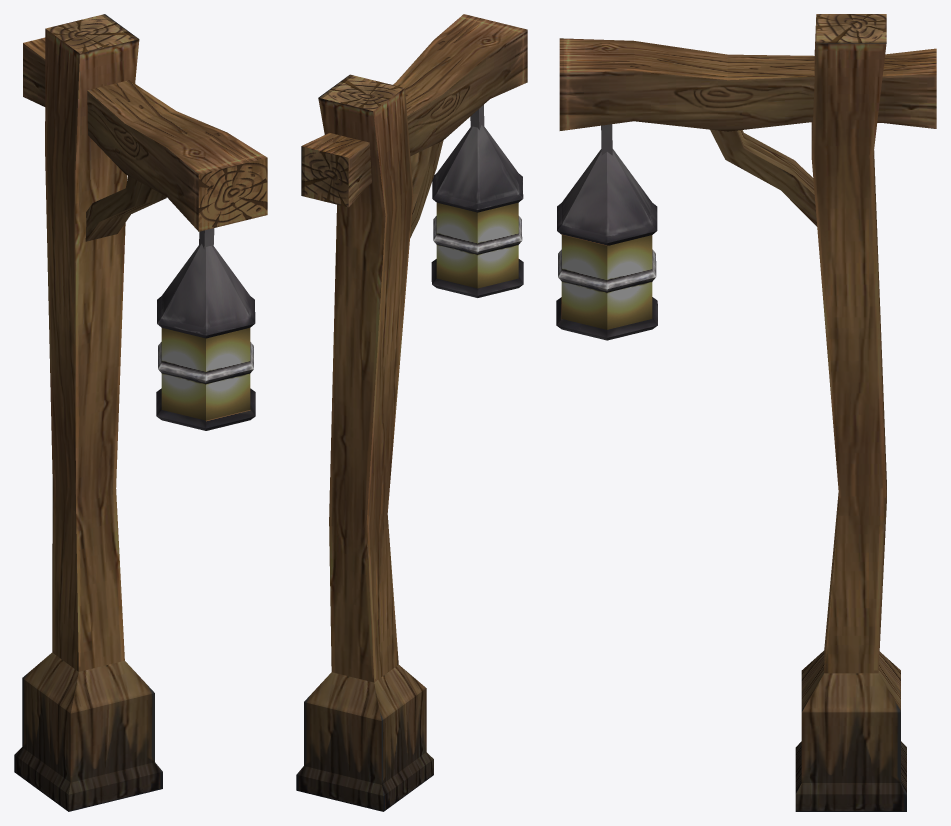
Rendered from fanasty_mod_street_lamp.fbx.
3 renders of one model, left to right at view 1: azimuth 30°, elevation 25°; view 2: azimuth 150°, elevation 25°; view 3: azimuth 270°, elevation 25°, orthographic. The views are drawn at different scales.
Parts seen in each view (by area): view 1: street_lamp; view 2: street_lamp; view 3: street_lamp.
Part boxes in pixels (left/top/right/bottom): street_lamp: left=14, top=14, right=267, bottom=811; street_lamp: left=296, top=14, right=527, bottom=811; street_lamp: left=556, top=14, right=936, bottom=811.
Bounding box in the file's own units: 0.5337 × 3.83 × 1.73.
